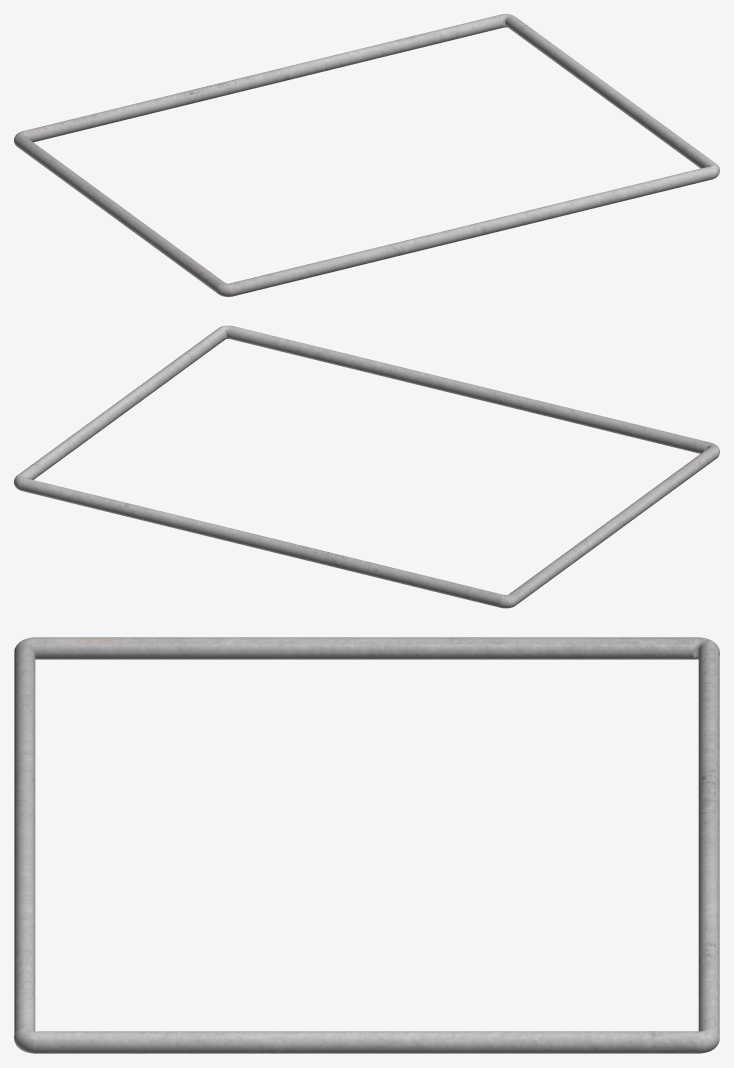
File: arena_pipe.dae
3 renders of one model, top to bottom at view 1: azimuth 30°, elevation 25°; view 2: azimuth 150°, elevation 25°; view 3: azimuth 270°, elevation 25°, orthographic. The views are drawn at different scales.
Visible parts, largest first — view 1: arena_pipe; view 2: arena_pipe; view 3: arena_pipe.
Part boxes in pixels (left/top/right/bottom): arena_pipe: left=14, top=14, right=719, bottom=296; arena_pipe: left=14, top=325, right=719, bottom=608; arena_pipe: left=14, top=637, right=719, bottom=1053.
Bounding box in the file's own units: 7.22 × 5.34 × 0.1698.
1 material, 1 textured.
